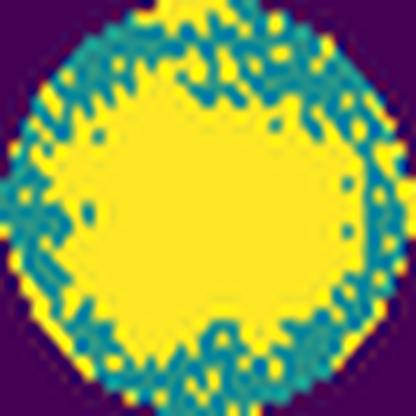Center: (34, 44, 366, 373)
